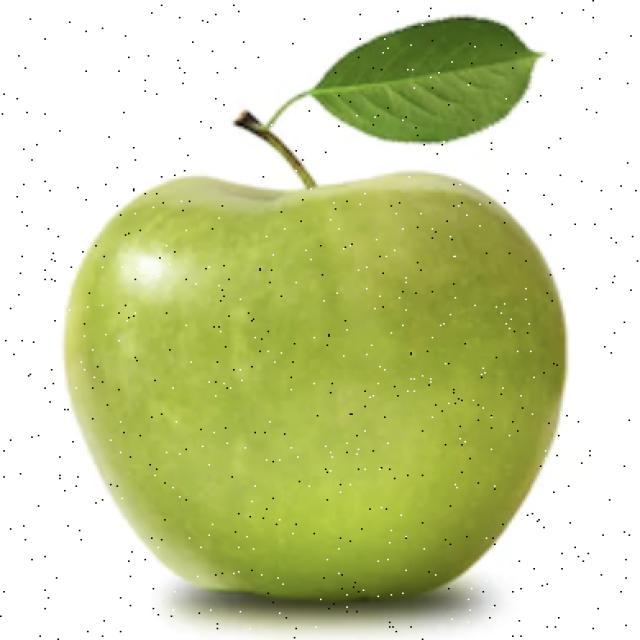Apple: (52, 162, 570, 607)
